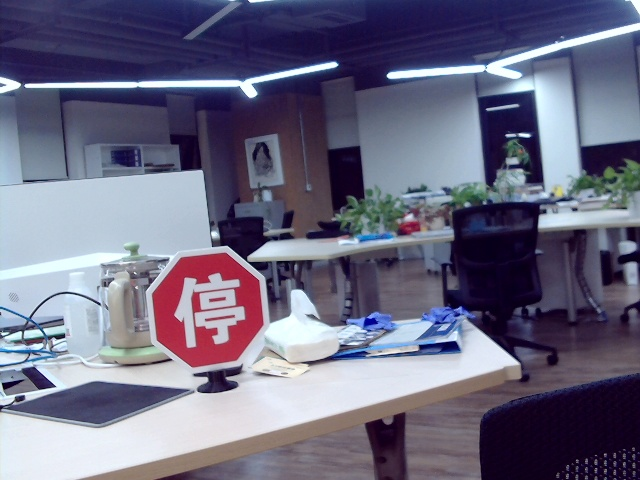stop: (172, 271, 245, 345)
